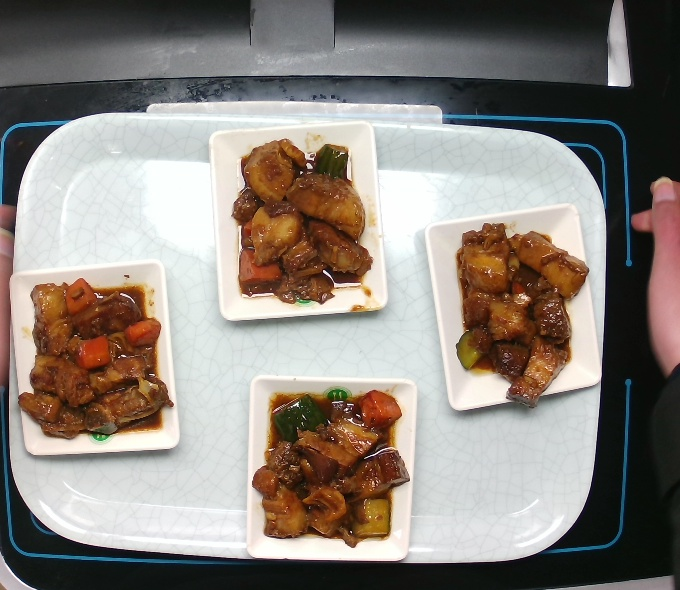wcq-JiangRou: (447, 218, 592, 409), (17, 280, 176, 445), (255, 384, 414, 549), (229, 137, 376, 306)
